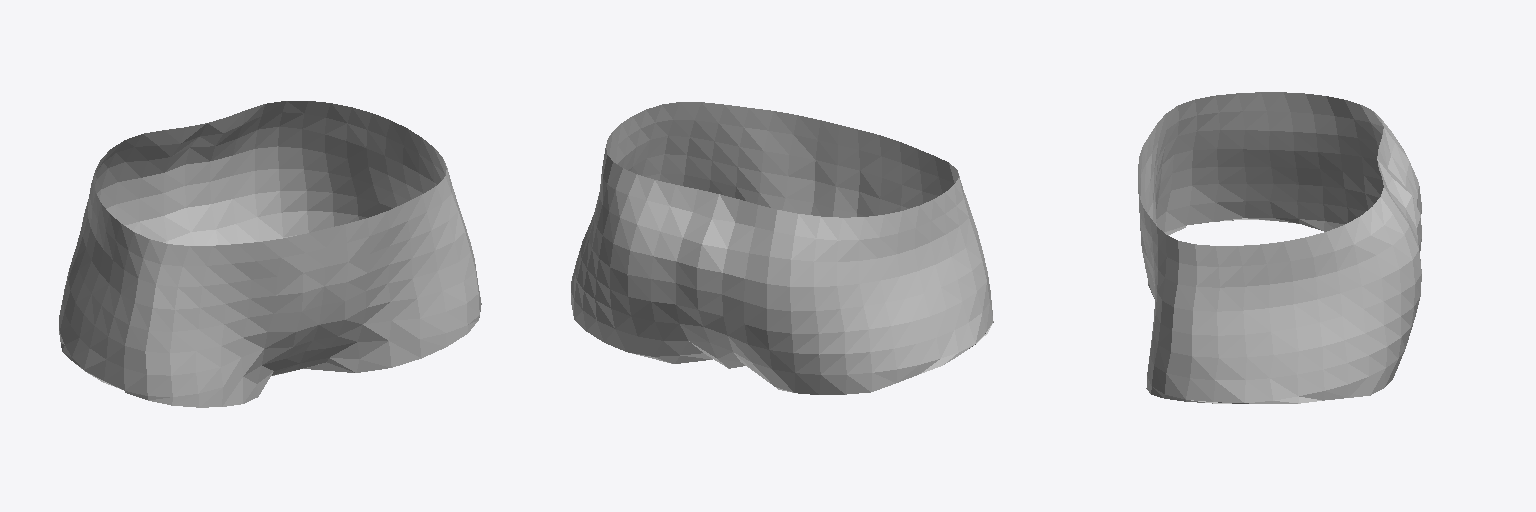
Rendered from Hips.obj.
The picture shows the model from 3 angles: view 1: azimuth 30°, elevation 25°; view 2: azimuth 150°, elevation 25°; view 3: azimuth 270°, elevation 25°; orthographic projection.
Parts seen in each view (by area): view 1: polySurface37 polySurface8 polySurface2 polySurface1 SmoothSkin2; view 2: polySurface37 polySurface8 polySurface2 polySurface1 SmoothSkin2; view 3: polySurface37 polySurface8 polySurface2 polySurface1 SmoothSkin2.
Boxes of the visible parts, <box> form: polySurface37 polySurface8 polySurface2 polySurface1 SmoothSkin2: <box>59,101,481,407</box>; polySurface37 polySurface8 polySurface2 polySurface1 SmoothSkin2: <box>571,102,993,394</box>; polySurface37 polySurface8 polySurface2 polySurface1 SmoothSkin2: <box>1138,92,1421,403</box>.
Bounding box in the file's own units: 16.36 × 8.18 × 10.59.